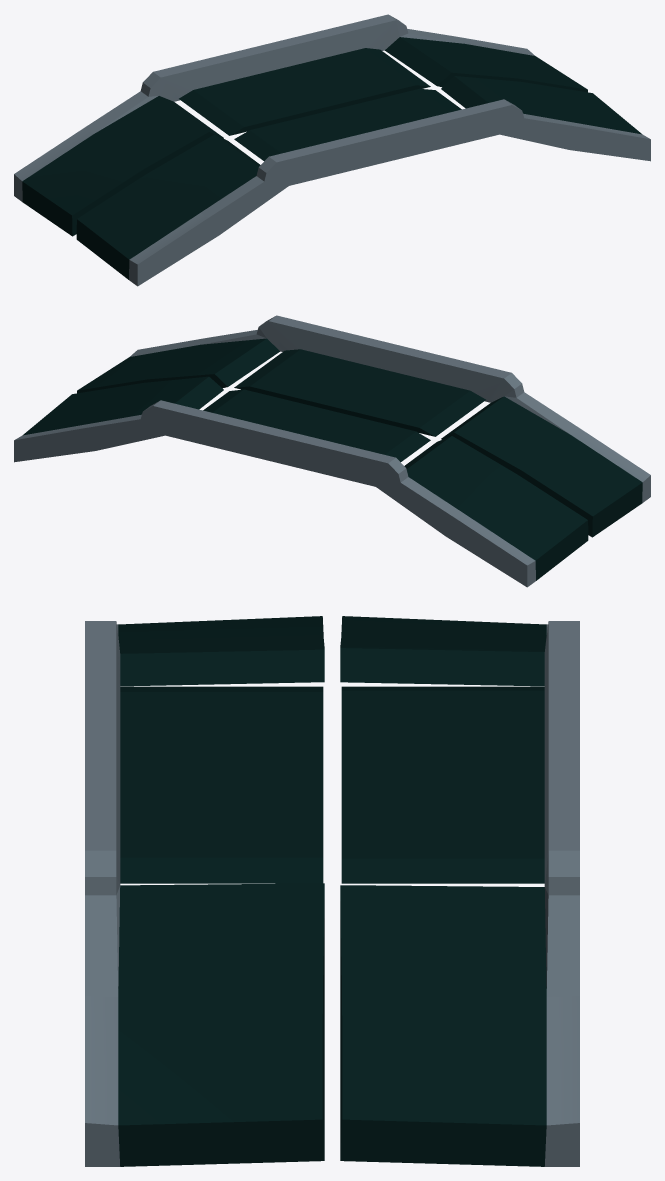
Rendered from Bridge.fbx.
3 views of the same model, one above another, from view 1: azimuth 30°, elevation 25°; view 2: azimuth 150°, elevation 25°; view 3: azimuth 270°, elevation 25° (orthographic). The views are drawn at different scales.
Parts seen in each view (by area): view 1: Bridge; view 2: Bridge; view 3: Bridge.
Boxes of the visible parts, x1,y1,x2,y2 form: Bridge: (14, 14, 650, 286); Bridge: (14, 315, 650, 587); Bridge: (85, 616, 579, 1166).
Bounding box in the file's own units: 19.85 × 3.32 × 8.24.
